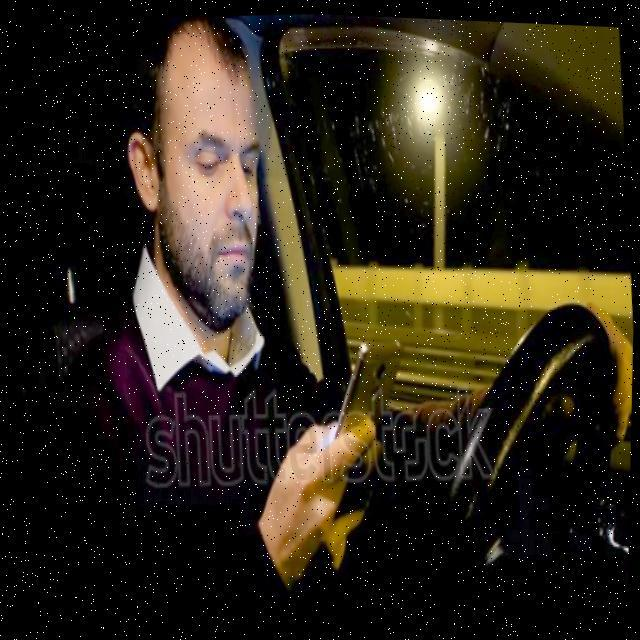PhoneCall: (332, 333, 411, 472)
